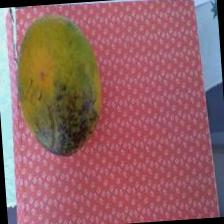Orange Rotten: (8, 7, 112, 164)
